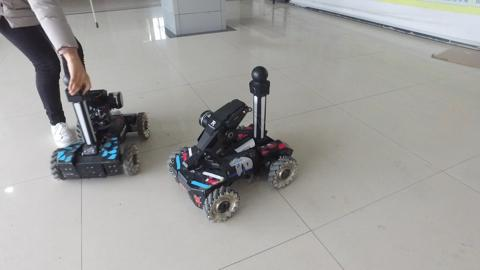chariot: (168, 64, 302, 226), (50, 77, 156, 194)
